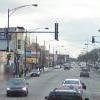Traffic light: (51, 18, 70, 42)
